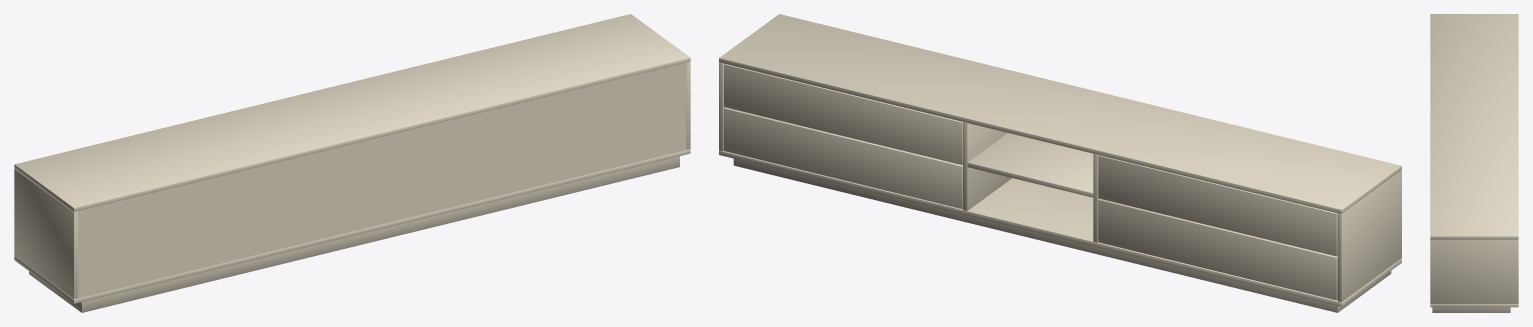
File: reca0V2PYsi66wmaA.glb
The picture shows the model from 3 angles, left to right: view 1: azimuth 30°, elevation 25°; view 2: azimuth 150°, elevation 25°; view 3: azimuth 270°, elevation 25°; orthographic projection. The views are drawn at different scales.
Parts seen in each view (by area): view 1: Meuble_TV_Corps; view 2: Meuble_TV_Corps; view 3: Meuble_TV_Corps.
Part boxes in pixels (left/top/right/bottom): Meuble_TV_Corps: left=14, top=14, right=690, bottom=312; Meuble_TV_Corps: left=719, top=14, right=1401, bottom=312; Meuble_TV_Corps: left=1430, top=14, right=1518, bottom=312.
Size of the model in its own units: 2.68 by 0.4501 by 0.4498.
